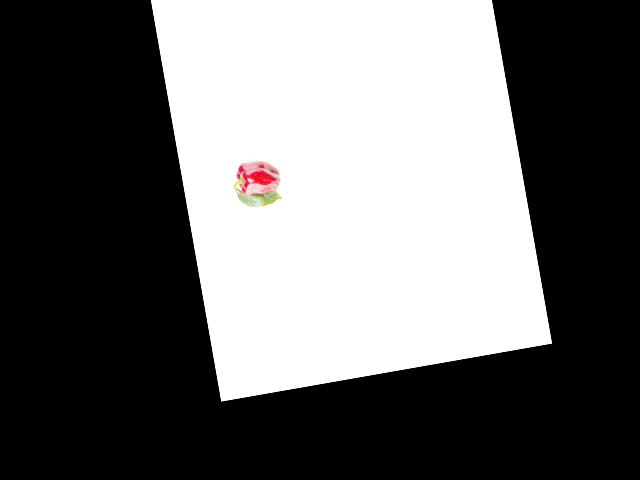bell_pepper: (229, 152, 284, 200)
